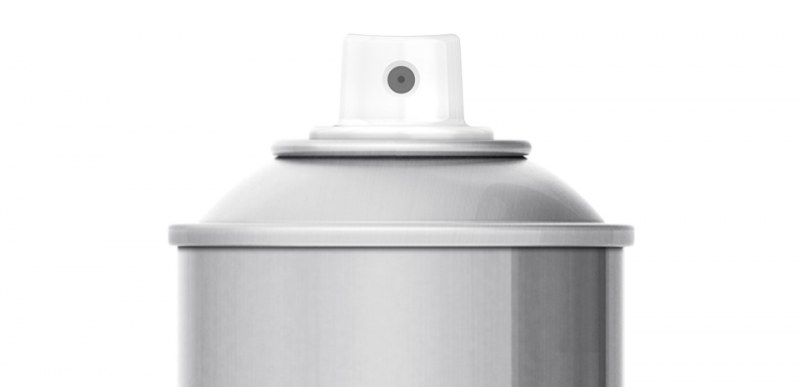metal: (163, 29, 637, 387)
